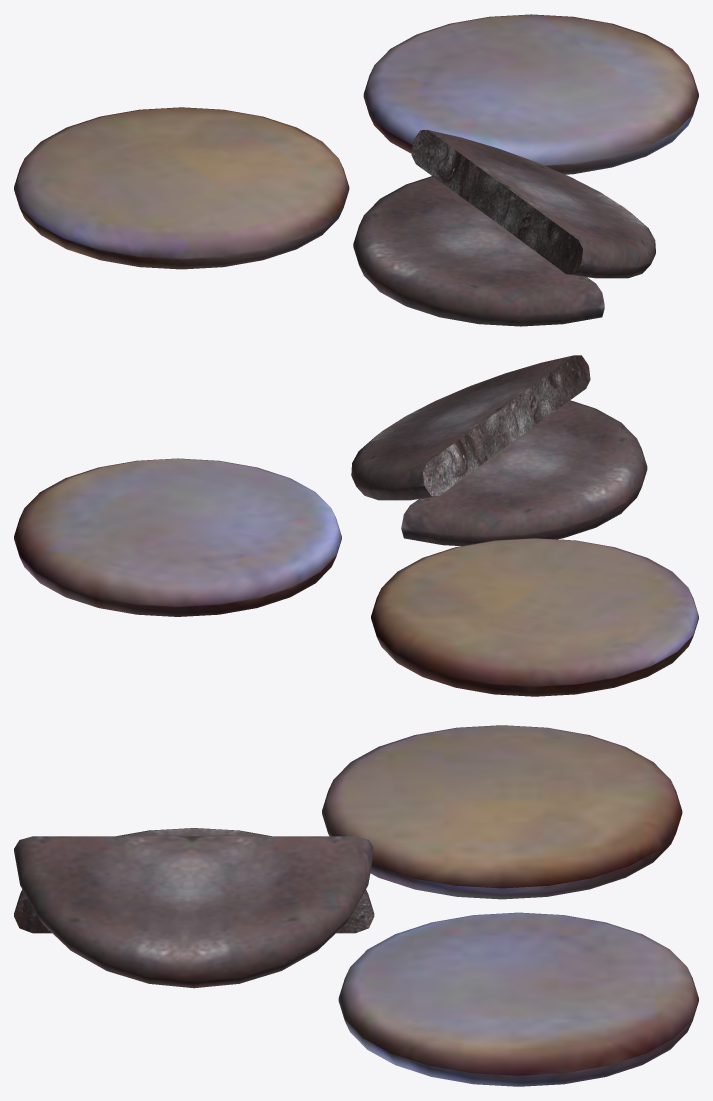
Rendered from chansu.FBX.
3 views of the same model, one above another, from view 1: azimuth 30°, elevation 25°; view 2: azimuth 150°, elevation 25°; view 3: azimuth 270°, elevation 25° (orthographic). The views are drawn at different scales.
Parts seen in each view (by area): view 1: ChamferCyl002, ChamferCyl001, ChamferCyl003, ChamferCyl004; view 2: ChamferCyl002, ChamferCyl001, ChamferCyl003, ChamferCyl004; view 3: ChamferCyl001, ChamferCyl002, ChamferCyl004, ChamferCyl003.
Part boxes in pixels (x1,y1,x2,y2): ChamferCyl002: (14,107,349,269); ChamferCyl001: (363,14,698,174); ChamferCyl003: (353,176,604,326); ChamferCyl004: (411,130,655,278); ChamferCyl002: (371,538,698,696); ChamferCyl001: (14,458,341,616); ChamferCyl003: (401,400,647,545); ChamferCyl004: (351,355,590,500); ChamferCyl001: (338,912,698,1086); ChamferCyl002: (322,725,682,899); ChamferCyl004: (14,836,374,988); ChamferCyl003: (14,828,374,933).
Size of the model in its own units: 65.51 by 8.01 by 55.82.
1 material, 1 textured.
